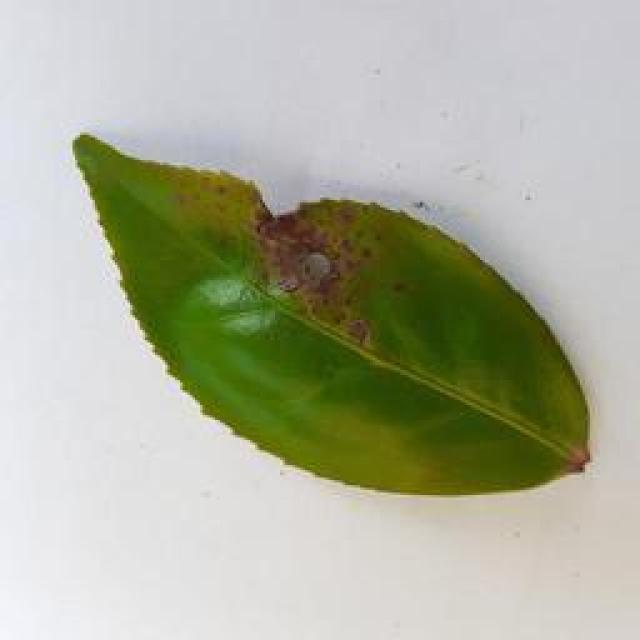Helopeltis: (62, 118, 604, 482)
